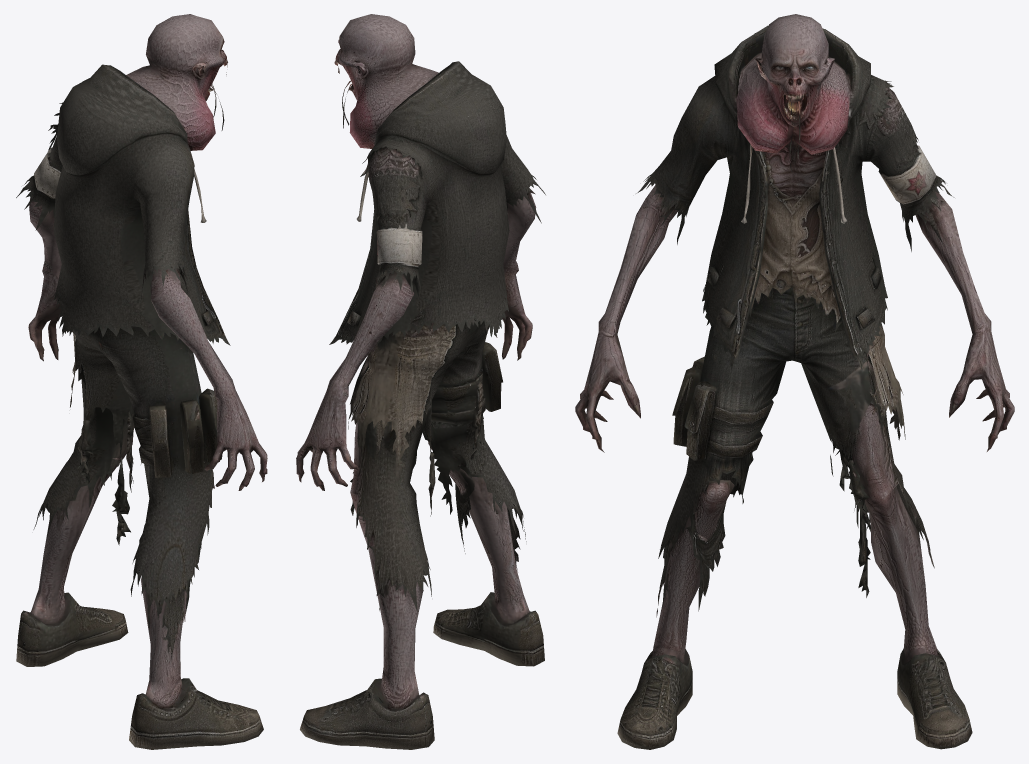
Rendered from tripo_convert_49d363a8-d389-46c4-b753-7c83156a82b6.fbx.
3 renders of one model, left to right at view 1: azimuth 30°, elevation 25°; view 2: azimuth 150°, elevation 25°; view 3: azimuth 270°, elevation 25°, orthographic. The views are drawn at different scales.
Visible parts, largest first — view 1: tripo_node_49d363a8; view 2: tripo_node_49d363a8; view 3: tripo_node_49d363a8.
Part boxes in pixels (left/top/right/bottom): tripo_node_49d363a8: left=16, top=14, right=267, bottom=749; tripo_node_49d363a8: left=296, top=14, right=545, bottom=749; tripo_node_49d363a8: left=575, top=14, right=1014, bottom=749.
Size of the model in its own units: 0.2598 by 0.998 by 0.5488.
Materials: 1 (1 with a texture image).
